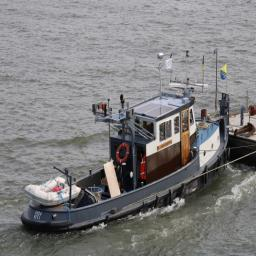tugboat: (20, 80, 231, 237)
